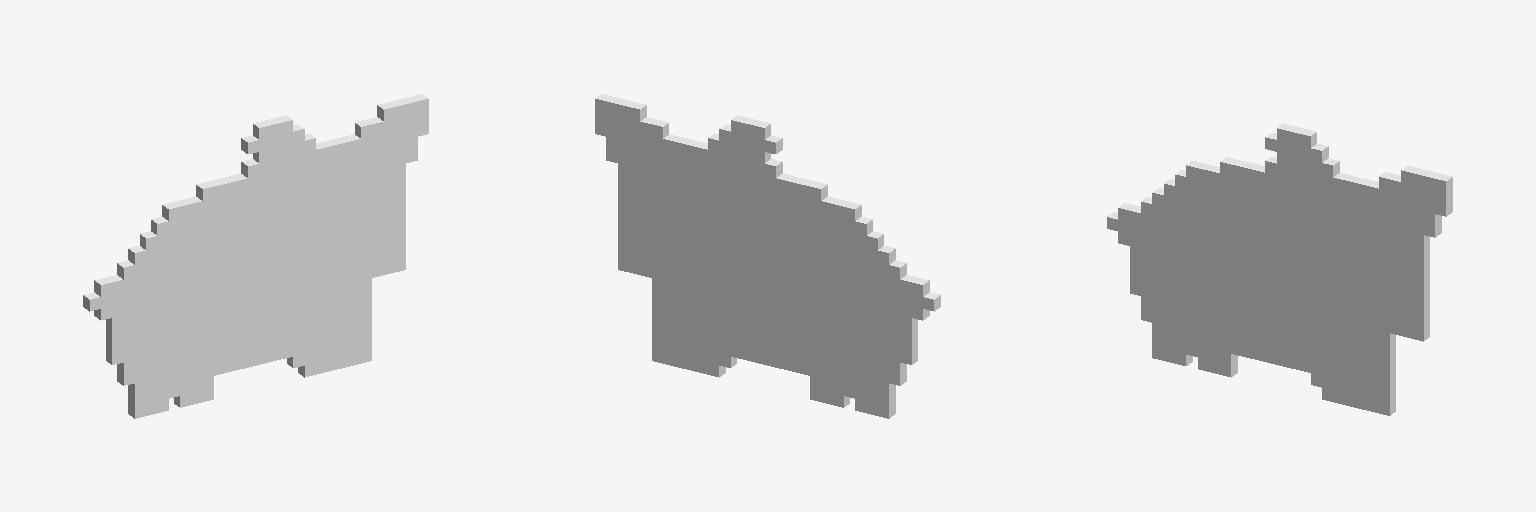
File: potato_default.obj
The picture shows the model from 3 angles: view 1: azimuth 30°, elevation 25°; view 2: azimuth 150°, elevation 25°; view 3: azimuth 330°, elevation 25°; orthographic projection.
Visible parts, largest first — view 1: object 1; view 2: object 1; view 3: object 1.
Part boxes in pixels (x1,y1,x2,y2): object 1: (83, 94, 428, 418); object 1: (595, 94, 940, 418); object 1: (1107, 123, 1452, 415).
Bounding box in the file's own units: 3 × 2.2 × 0.1.